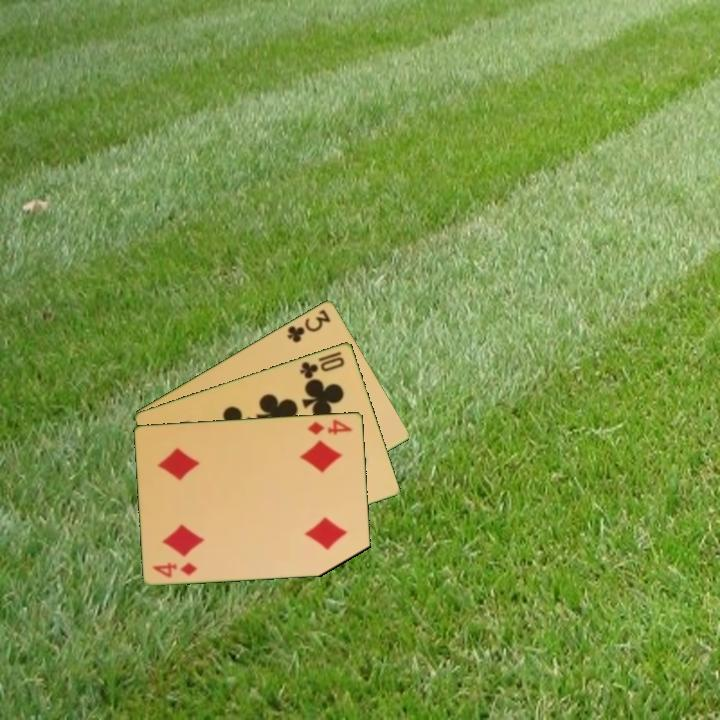10c: (296, 353, 348, 381)
3c: (284, 306, 334, 345)
4d: (304, 416, 355, 438), (149, 558, 200, 580)
